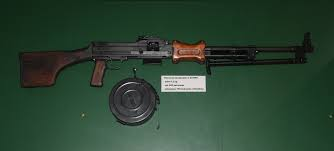gun: (7, 29, 317, 90)
